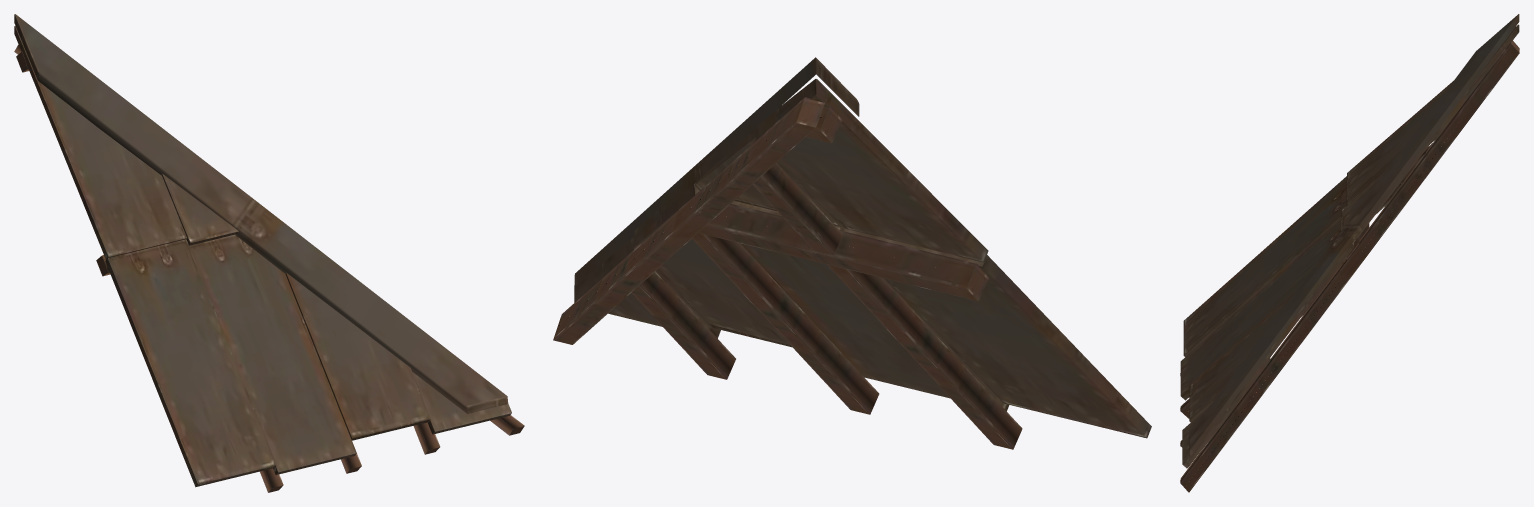
The model's file is roof.toptier.corner.90.convex.r.glb.
The picture shows the model from 3 angles, left to right: view 1: azimuth 30°, elevation 25°; view 2: azimuth 150°, elevation 25°; view 3: azimuth 270°, elevation 25°; orthographic projection. The views are drawn at different scales.
Visible parts, largest first — view 1: LOD0; view 2: LOD0; view 3: LOD0.
Part boxes in pixels (x1=…): LOD0: x1=14, y1=14, x2=524, y2=492; LOD0: x1=553, y1=57, x2=1151, y2=449; LOD0: x1=1180, y1=14, x2=1519, y2=492.
Size of the model in its own units: 3.12 by 3.35 by 3.08.
1 material, 1 textured.
